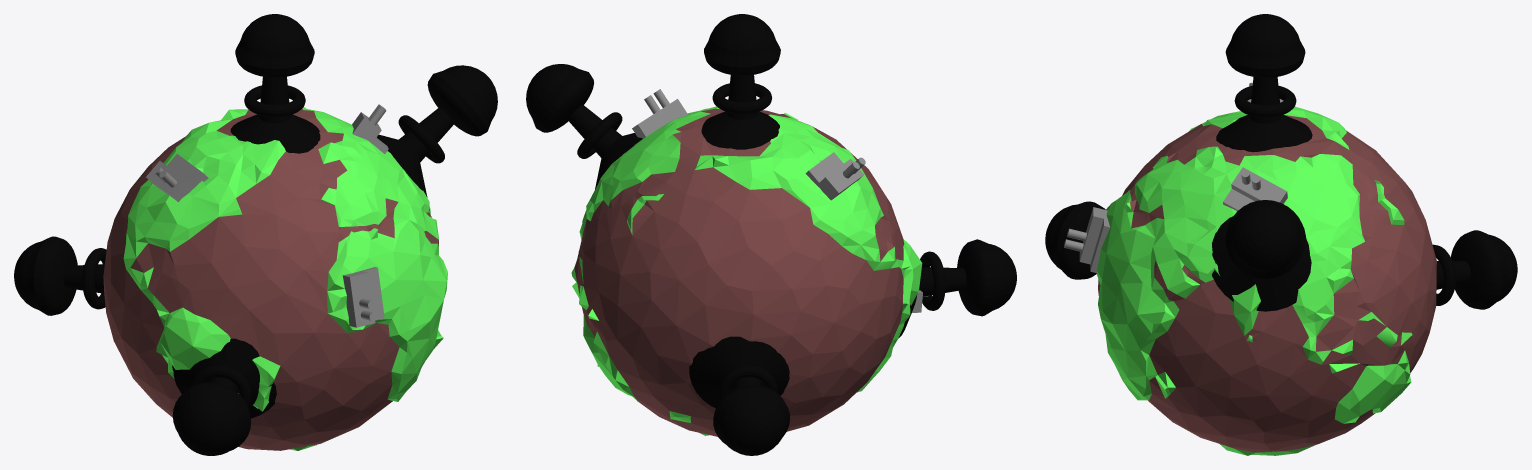
Rendered from earth5.gltf.
The picture shows the model from 3 angles, left to right: view 1: azimuth 30°, elevation 25°; view 2: azimuth 150°, elevation 25°; view 3: azimuth 270°, elevation 25°; orthographic projection. The views are drawn at different scales.
Parts seen in each view (by area): view 1: Icosphere001, Cylinder (×4), Cube (×3); view 2: Icosphere001, Cylinder (×4), Cube (×2); view 3: Icosphere001, Cylinder (×4), Cube (×2).
Part boxes in pixels (left/top/right/bottom): Icosphere001: left=103, top=107, right=447, bottom=450; Cylinder (×4): left=14, top=14, right=497, bottom=455; Cube (×3): left=146, top=104, right=388, bottom=327; Icosphere001: left=571, top=106, right=922, bottom=436; Cylinder (×4): left=526, top=14, right=1016, bottom=455; Cube (×2): left=632, top=89, right=865, bottom=200; Icosphere001: left=1096, top=107, right=1436, bottom=455; Cylinder (×4): left=1045, top=14, right=1517, bottom=311; Cube (×2): left=1064, top=167, right=1287, bottom=273.
Size of the model in its own units: 13.74 by 13.68 by 13.85.
